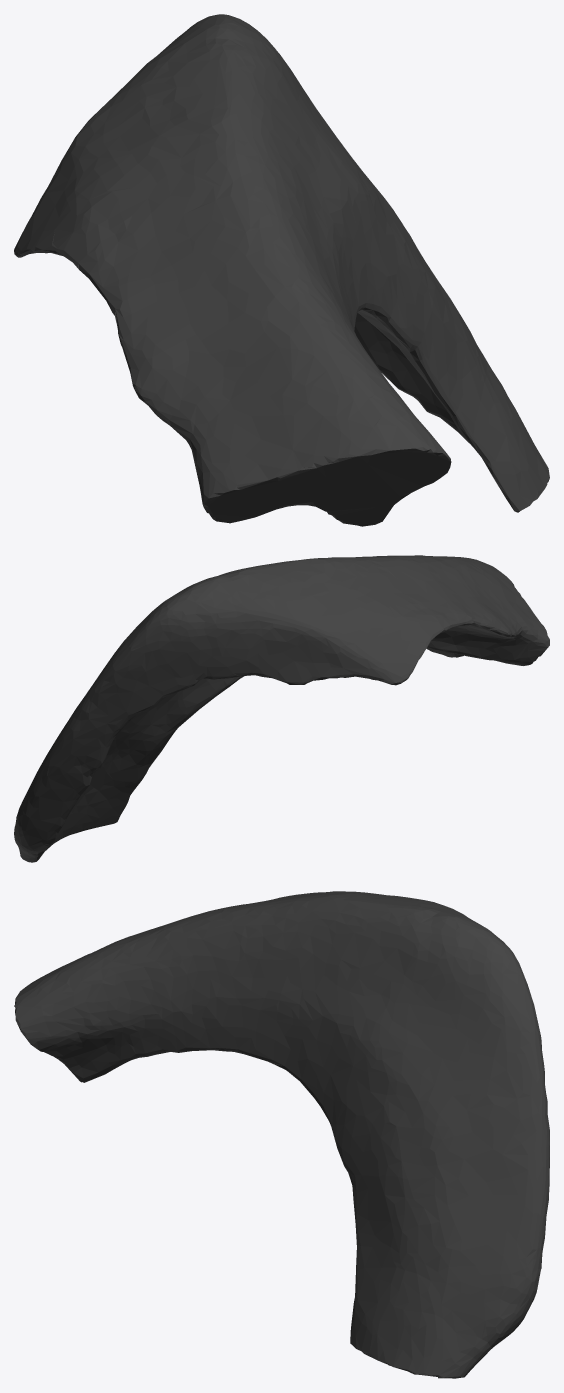
The model's file is Ventricle_1_L_caud_horn.glb.
3 views of the same model, one above another, from view 1: azimuth 30°, elevation 25°; view 2: azimuth 150°, elevation 25°; view 3: azimuth 270°, elevation 25° (orthographic). The views are drawn at different scales.
Visible parts, largest first — view 1: Ventricle_1_L_caud_horn; view 2: Ventricle_1_L_caud_horn; view 3: Ventricle_1_L_caud_horn.
Boxes of the visible parts, x1=… form: Ventricle_1_L_caud_horn: x1=14, y1=14, x2=549, y2=526; Ventricle_1_L_caud_horn: x1=14, y1=555, x2=549, y2=862; Ventricle_1_L_caud_horn: x1=14, y1=891, x2=549, y2=1378.
Size of the model in its own units: 0.0313 by 0.0262 by 0.0353.
1 material, 1 textured.
